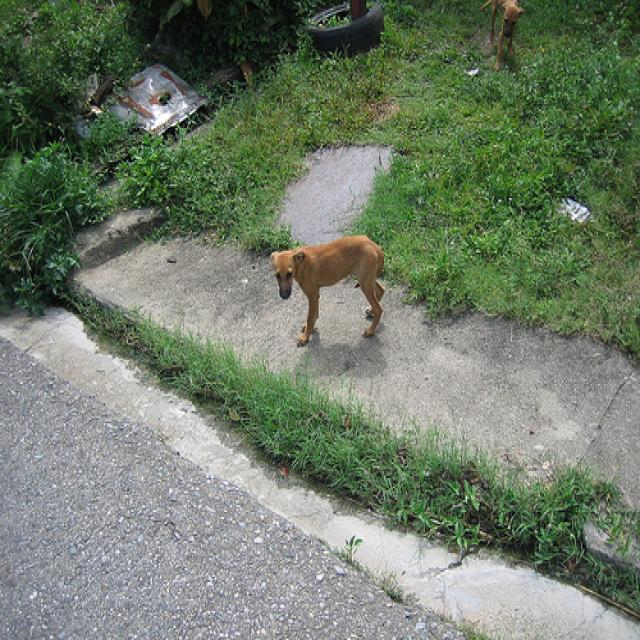dog: (270, 237, 385, 344), (486, 1, 523, 71)
